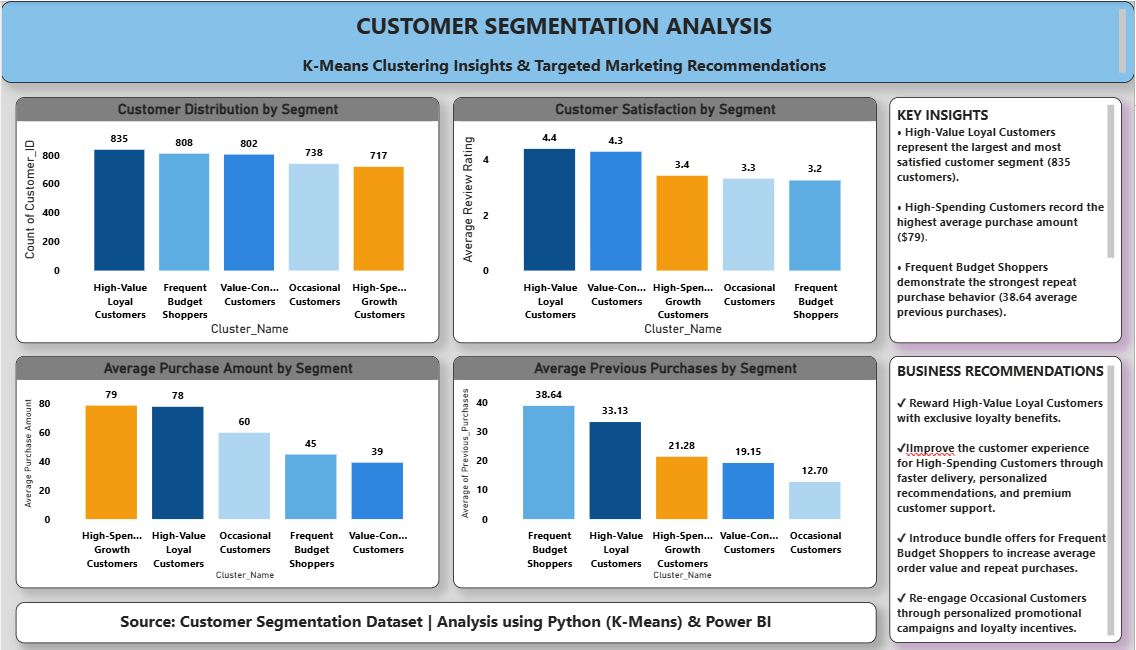

Layout of this report page (visuals, bound fields, positions):
{"tool":"powerbi","page":{"name":"customer segmentation analysis","canvas":[1326,760],"ordinal":1},"visuals":[{"type":"textbox","box":[-2,0,1328,96],"z":0},{"type":"clusteredColumnChart","title":"Customer Distribution by Segment","fields":{"Y":["CountNonNull(Customer_Segmentation_Clustered.Customer_ID)"],"Category":["Customer_Segmentation_Clustered.Cluster_Name"]},"box":[16,112,496,288],"z":1000},{"type":"clusteredColumnChart","title":"Average Purchase Amount by Segment","fields":{"Y":["Customer_Segmentation_Clustered.Average Purchase Amount"],"Category":["Customer_Segmentation_Clustered.Cluster_Name"]},"box":[16,416,496,272],"z":2000},{"type":"clusteredColumnChart","title":"Customer Satisfaction by Segment","fields":{"Y":["Customer_Segmentation_Clustered.Average Review Rating"],"Category":["Customer_Segmentation_Clustered.Cluster_Name"]},"box":[528,112,496,288],"z":3000},{"type":"clusteredColumnChart","title":"Average Previous Purchases by Segment","fields":{"Y":["Avg(Customer_Segmentation_Clustered.Previous_Purchases)"],"Category":["Customer_Segmentation_Clustered.Cluster_Name"]},"box":[528,416,496,272],"z":4000},{"type":"textbox","box":[1040,112,272,288],"z":5000},{"type":"textbox","box":[1040,416,272,336],"z":6000},{"type":"textbox","box":[16,704,1008,48],"z":7000}]}

Visuals, with their boxes in screenshot pixels (x1, y1, x2, y2), scaled from the page's 1326x760 canvas onto the 1136x650 screenshot:
textbox: (0,0,1135,82)
"Customer Distribution by Segment" clusteredColumnChart: (14,96,439,342)
"Average Purchase Amount by Segment" clusteredColumnChart: (14,356,439,588)
"Customer Satisfaction by Segment" clusteredColumnChart: (452,96,877,342)
"Average Previous Purchases by Segment" clusteredColumnChart: (452,356,877,588)
textbox: (891,96,1124,342)
textbox: (891,356,1124,643)
textbox: (14,602,877,643)
